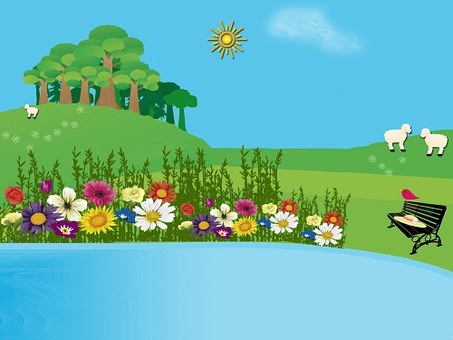bird: (397, 183, 424, 203)
chair: (385, 198, 448, 254)
sheep: (378, 119, 414, 154), (418, 124, 451, 158), (20, 100, 41, 120)
